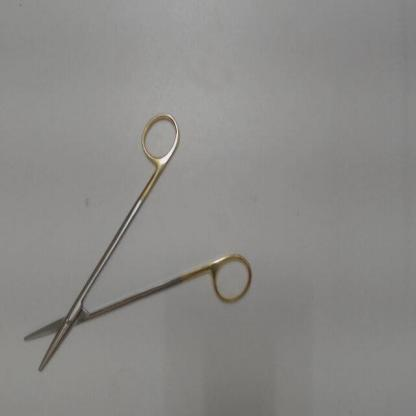7 Metzenbaum Scissors: (20, 106, 256, 377)
